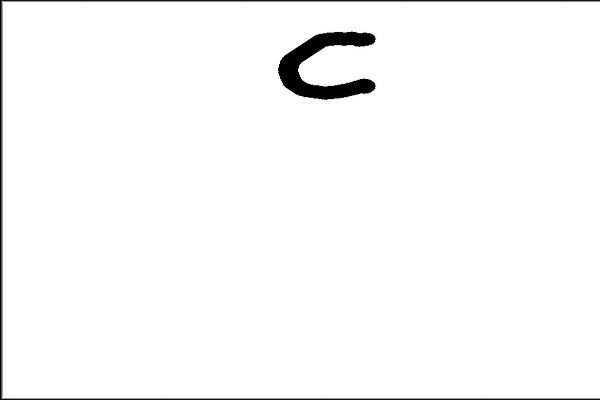C: (273, 25, 383, 100)
